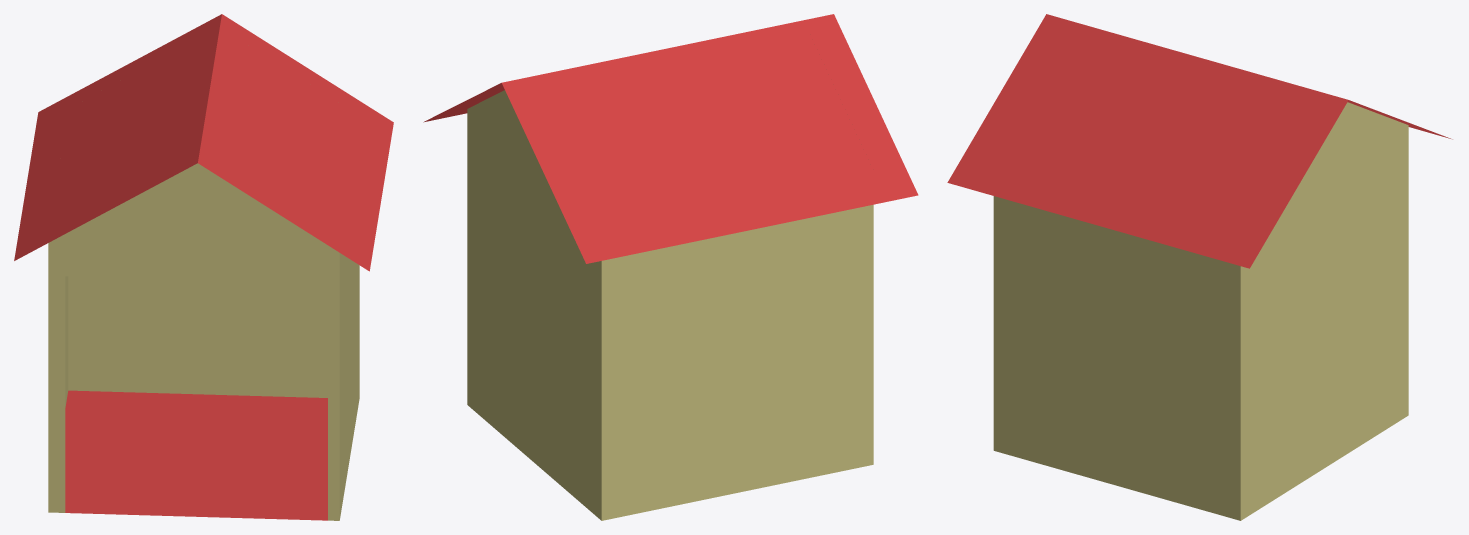
3 views of the same model, side by side, from view 1: azimuth 30°, elevation 25°; view 2: azimuth 150°, elevation 25°; view 3: azimuth 270°, elevation 25° (orthographic). The views are drawn at different scales.
Bounding box in the file's own units: 11.47 × 11.45 × 9.42.
